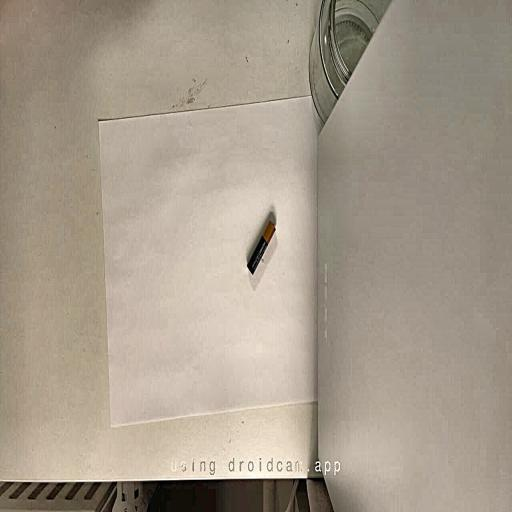DuracellAAA: (247, 220, 274, 274)
